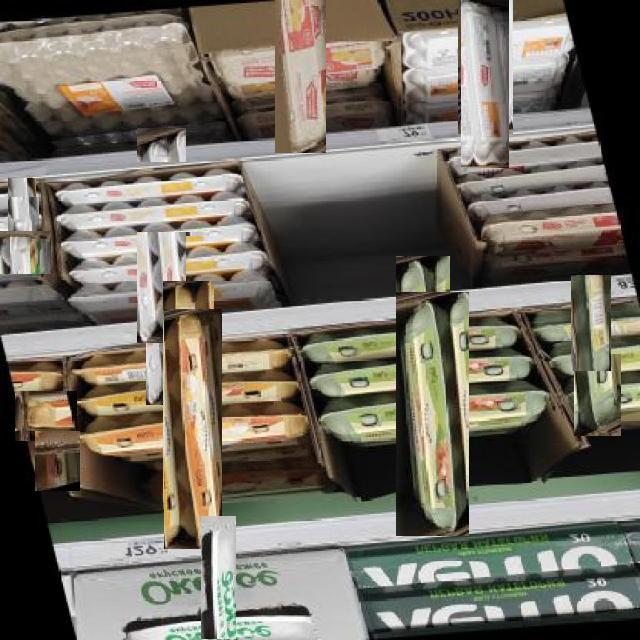Egg: (395, 292, 469, 536), (164, 309, 222, 549), (396, 256, 450, 492), (147, 188, 204, 405), (299, 314, 525, 367), (163, 280, 214, 509), (61, 236, 277, 287), (137, 128, 186, 343), (47, 185, 262, 232), (44, 162, 258, 206), (474, 205, 625, 259), (462, 0, 509, 168), (276, 0, 326, 153), (459, 0, 513, 134), (547, 334, 640, 381), (202, 515, 236, 640), (572, 274, 611, 371), (575, 354, 621, 436), (0, 275, 67, 327), (15, 390, 77, 441), (35, 431, 80, 491), (0, 231, 50, 279), (7, 358, 68, 394), (8, 198, 39, 245), (7, 178, 36, 219)
